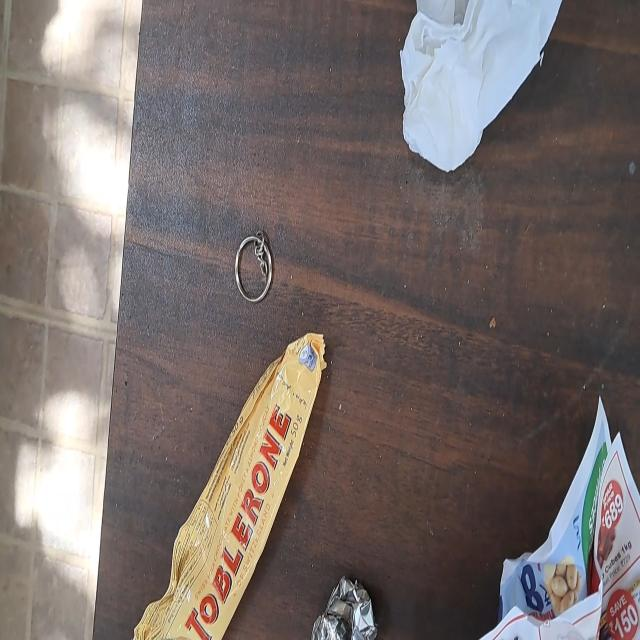Anorganik: (135, 333, 324, 640), (234, 232, 276, 306)
Organik: (478, 396, 640, 640), (400, 0, 569, 170)
